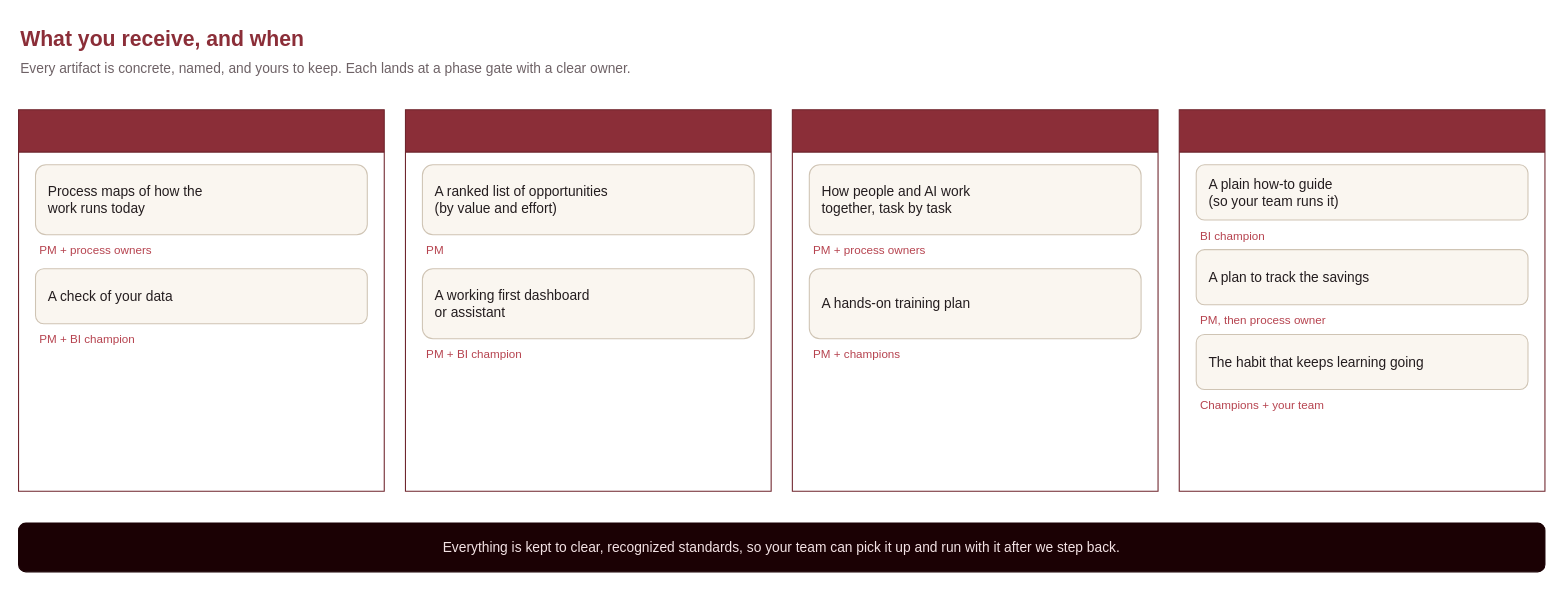
This 1563x590 diagram has some shape labels left out. The box of each missing label's shape, as (x1, y1, x2, y2) in pixels:
Embed: (1178, 109, 1545, 491)
Potential analysis: (17, 109, 384, 491)
Quick wins: (404, 109, 771, 491)
Rollout: (791, 109, 1158, 491)
